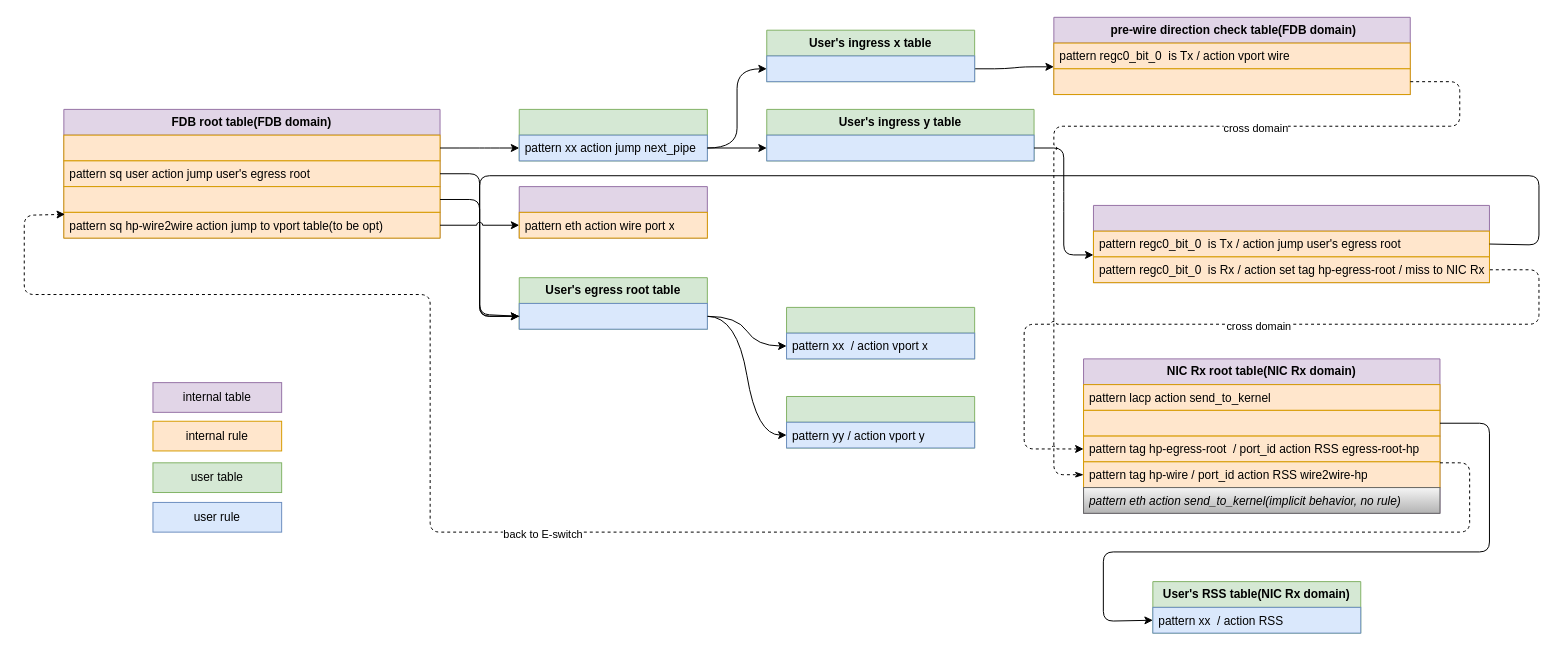
This 1564x653 diagram has some shape labels left out. The box of each missing label's shape, as (x1, y1, x2, y2) in pixels:
pattern regc0_bit_0 is Rx / action set tag hp-wire / miss to NIC Rx: (1053, 68, 1410, 95)
pattern sq hp-egress-root(for wire) action jump user's egress root: (63, 186, 440, 212)
pattern tag 0 / port_id action jump to user's RSS: (1083, 409, 1440, 436)
pattern VF/SF/Wire action set regc0_bit0 / jump user's ingress root: (63, 134, 440, 161)
pattern xx / action jump egress root(pre_egress): (766, 134, 1034, 161)
pattern xx / action jump next_pipe: (518, 302, 707, 329)
pattern xx / action vport wire(pre-wire): (766, 55, 975, 82)
pre-egress direction check table(FDB domain): (1092, 204, 1489, 283)
User's egress x table: (786, 306, 975, 359)
User's egress y table: (786, 396, 975, 448)
User's ingress root table: (518, 108, 707, 161)
vport table: (518, 186, 707, 238)
